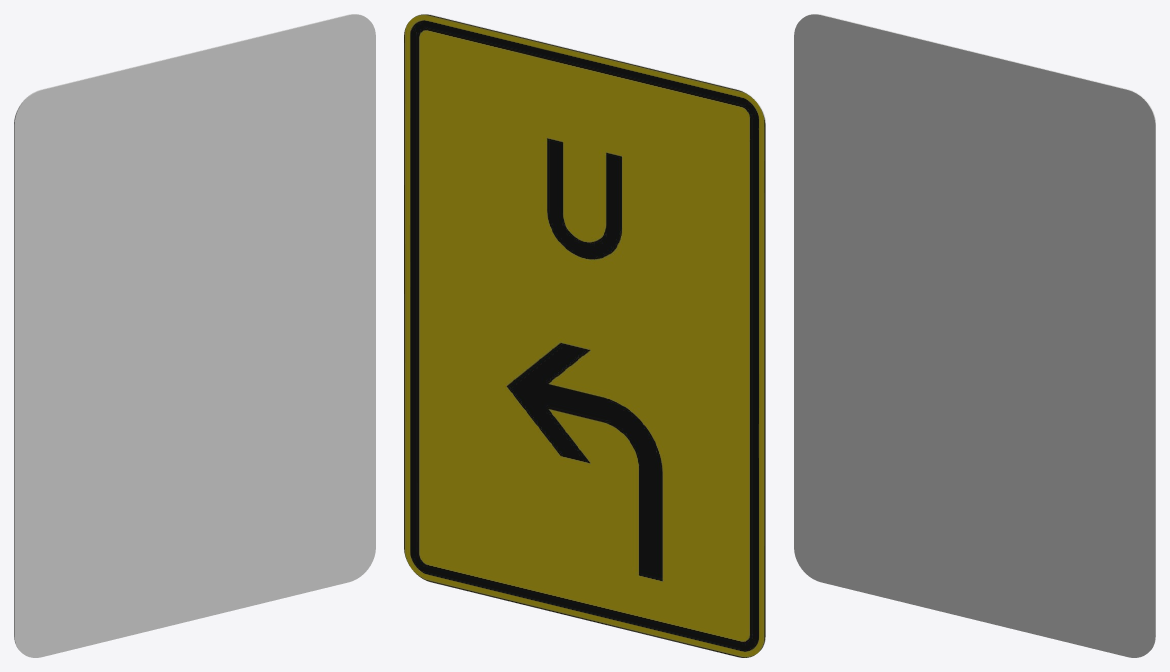
The picture shows the model from 3 angles, left to right: view 1: azimuth 30°, elevation 25°; view 2: azimuth 150°, elevation 25°; view 3: azimuth 330°, elevation 25°; orthographic projection.
Parts seen in each view (by area): view 1: Plane; view 2: Plane; view 3: Plane.
Boxes of the visible parts, <box> form: Plane: <box>14,14,375,657</box>; Plane: <box>404,14,765,657</box>; Plane: <box>794,14,1155,657</box>.
Bounding box in the file's own units: 0.6 × 0.9 × 0.002.
Materials: 2 (1 with a texture image).
